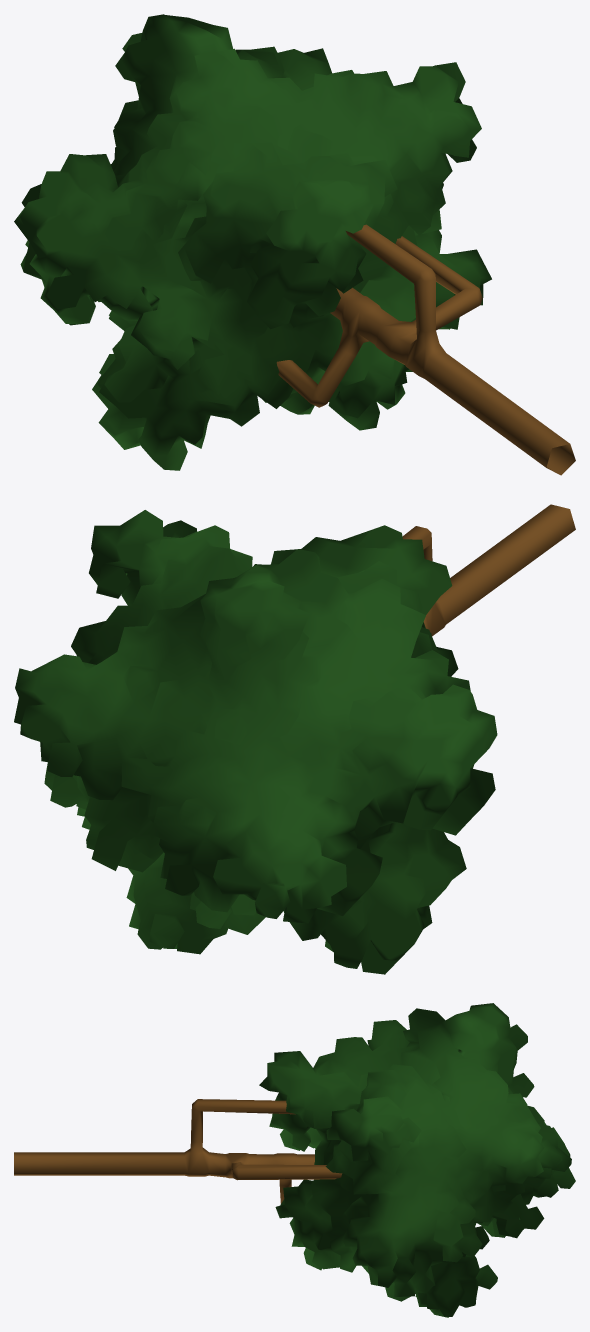
3 views of the same model, one above another, from view 1: azimuth 30°, elevation 25°; view 2: azimuth 150°, elevation 25°; view 3: azimuth 270°, elevation 25° (orthographic). The views are drawn at different scales.
Parts seen in each view (by area): view 1: imagetostl_mesh0; view 2: imagetostl_mesh0; view 3: imagetostl_mesh0.
Part boxes in pixels (bbox=[...]): imagetostl_mesh0: bbox=[14, 14, 575, 475]; imagetostl_mesh0: bbox=[14, 504, 575, 974]; imagetostl_mesh0: bbox=[14, 1003, 575, 1317].
Bounding box in the file's own units: 280 × 249 × 466.
